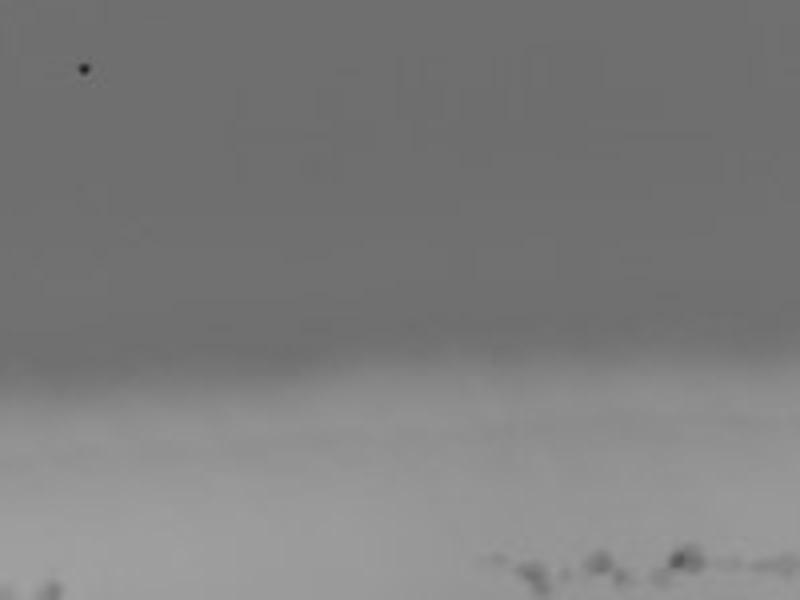defect: (516, 558, 551, 592), (754, 551, 798, 577), (670, 541, 706, 572), (580, 549, 607, 574), (649, 567, 673, 590), (38, 581, 64, 600), (719, 549, 740, 569), (613, 569, 633, 587), (488, 545, 508, 562), (77, 62, 94, 80), (559, 566, 573, 581)
